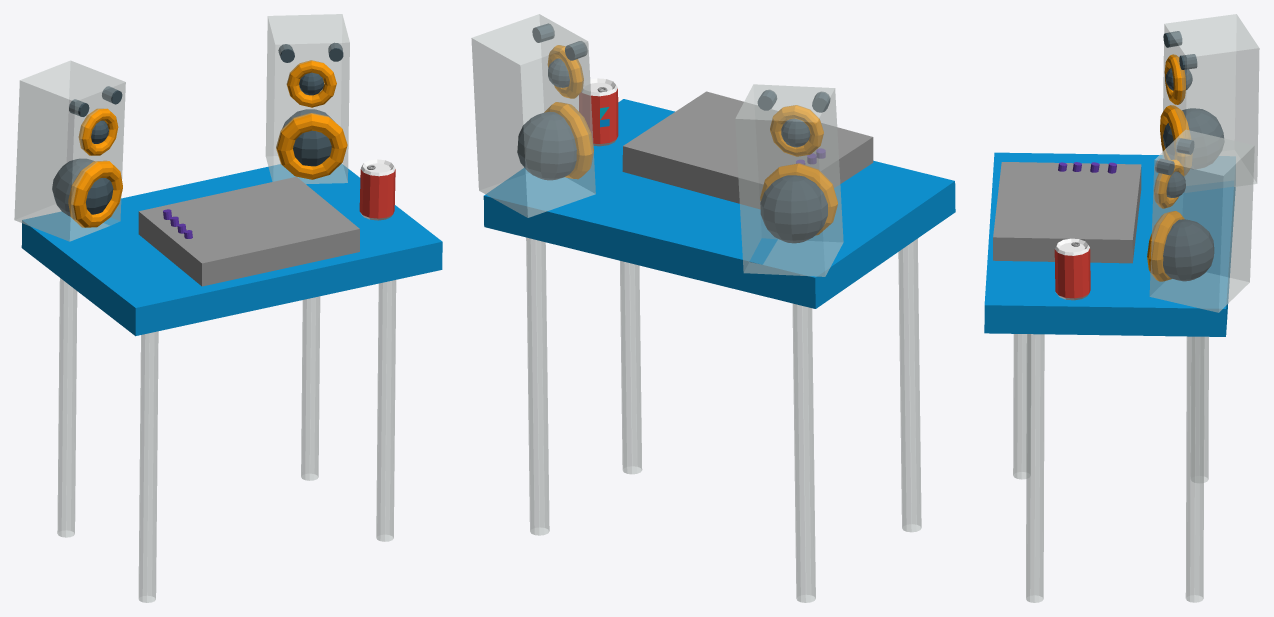
The model's file is table-speakers.obj.
3 views of the same model, side by side, from view 1: azimuth 30°, elevation 25°; view 2: azimuth 150°, elevation 25°; view 3: azimuth 270°, elevation 25° (orthographic). The views are drawn at different scales.
Parts seen in each view (by area): view 1: group1097801517, group1549006693, group1335626408, group605497603, group1020030921; view 2: group1097801517, group605497603, group1549006693, group1335626408, group1020030921; view 3: group1097801517, group605497603, group1549006693, group1335626408, group1020030921.
Part boxes in pixels (x1=…): group1097801517: x1=21, y1=164, x2=442, y2=602; group1549006693: x1=14, y1=60, x2=125, y2=241; group1335626408: x1=138, y1=176, x2=359, y2=286; group605497603: x1=265, y1=14, x2=349, y2=184; group1020030921: x1=359, y1=159, x2=395, y2=220; group1097801517: x1=483, y1=99, x2=955, y2=602; group605497603: x1=471, y1=14, x2=595, y2=217; group1549006693: x1=735, y1=84, x2=843, y2=276; group1335626408: x1=622, y1=91, x2=873, y2=208; group1020030921: x1=579, y1=78, x2=618, y2=146; group1097801517: x1=984, y1=152, x2=1235, y2=602; group605497603: x1=1147, y1=129, x2=1254, y2=312; group1549006693: x1=1160, y1=14, x2=1259, y2=186; group1335626408: x1=993, y1=162, x2=1141, y2=263; group1020030921: x1=1054, y1=238, x2=1090, y2=300.
Bounding box in the file's own units: 0.8518 × 1.13 × 0.6223.
